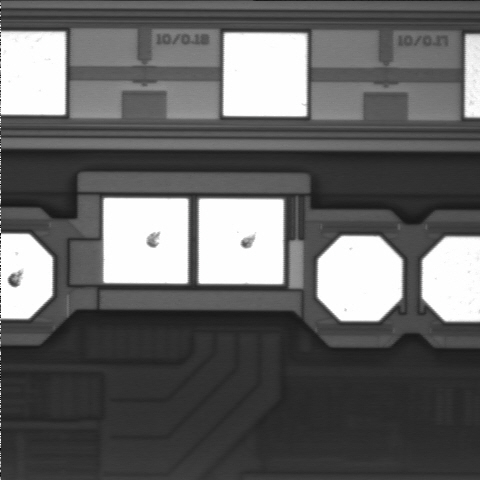pad: (103, 198, 188, 283), (199, 199, 284, 284), (318, 236, 402, 321), (223, 33, 307, 116)
